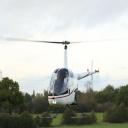helicopter: (2, 38, 108, 120)
